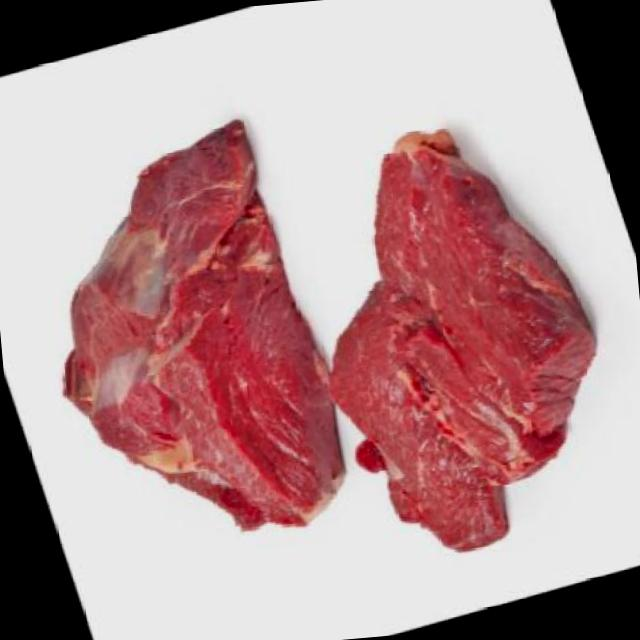beef: (251, 92, 640, 584), (0, 101, 382, 587)
